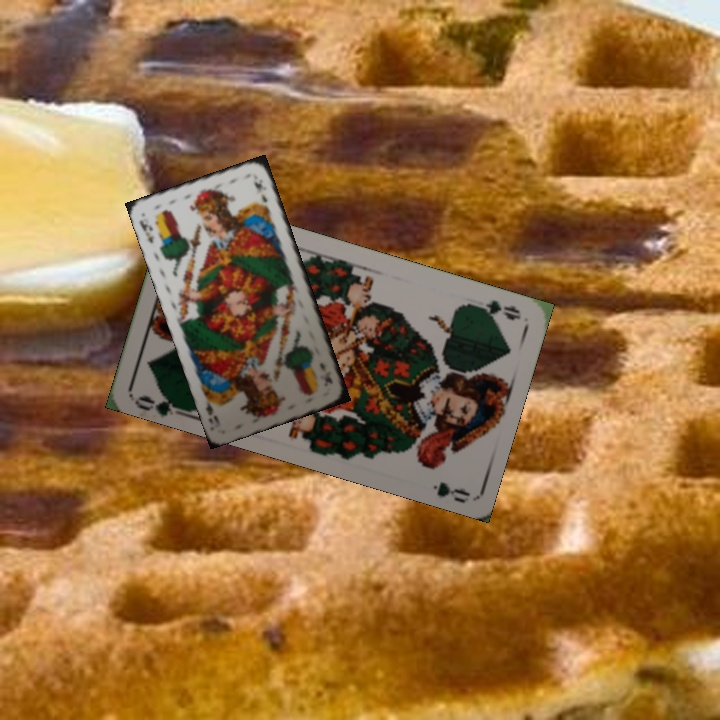EK: (135, 216, 157, 246), (316, 359, 335, 386)
GO: (132, 387, 192, 420), (465, 295, 523, 323)
